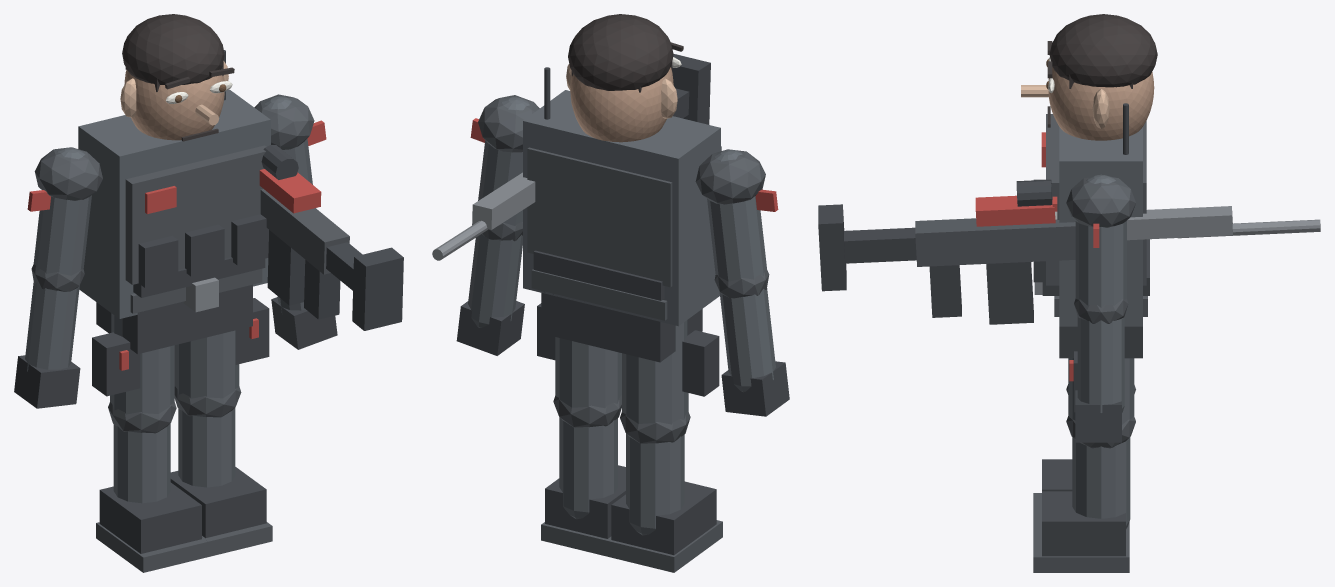
Rendered from jokowi-enemy-v1.glb.
3 renders of one model, left to right at view 1: azimuth 30°, elevation 25°; view 2: azimuth 150°, elevation 25°; view 3: azimuth 270°, elevation 25°, orthographic. The views are drawn at different scales.
Parts seen in each view (by area): view 1: Body, LeftLeg, RightLeg, Rifle, LeftArm, Head, Pelvis, RightArm; view 2: Body, LeftLeg, LeftArm, RightLeg, Head, RightArm, Pelvis, Rifle; view 3: Rifle, RightArm, RightLeg, Head, Body, Pelvis, LeftLeg.
Part boxes in pixels (x1,y1,x2,y2): Body: [78, 89, 270, 318]; LeftLeg: [92, 313, 207, 572]; RightLeg: [170, 298, 272, 556]; Rifle: [259, 145, 403, 330]; LeftArm: [14, 147, 102, 408]; Head: [120, 14, 234, 141]; Pelvis: [96, 268, 262, 354]; RightArm: [254, 94, 337, 349]; Body: [523, 90, 721, 326]; LeftLeg: [607, 320, 722, 572]; LeftArm: [695, 149, 789, 416]; RightLeg: [537, 303, 625, 556]; Head: [566, 14, 683, 142]; RightArm: [456, 95, 539, 355]; Pelvis: [531, 269, 702, 362]; Rifle: [432, 53, 710, 260]; Rifle: [818, 179, 1320, 324]; RightArm: [1066, 174, 1135, 442]; RightLeg: [1033, 351, 1135, 572]; Head: [1021, 14, 1157, 140]; Body: [1033, 114, 1149, 326]; Pelvis: [1034, 282, 1147, 358]; LeftLeg: [1033, 384, 1135, 525].
Bounding box in the file's own units: 1.43 × 2.33 × 2.04.
Materials: 7 (5 with a texture image).
